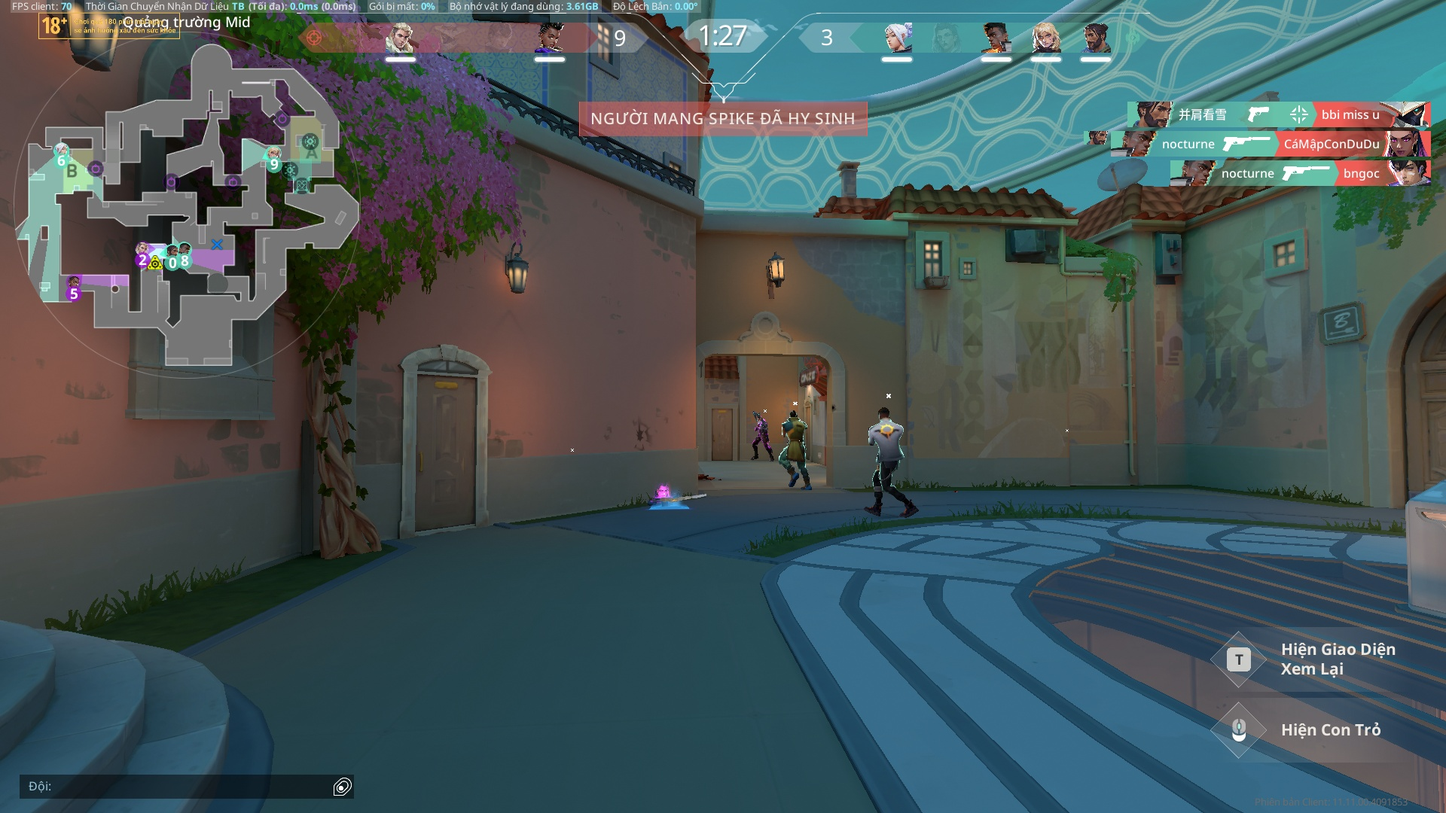body: (757, 422, 770, 436)
head: (755, 416, 766, 423)
